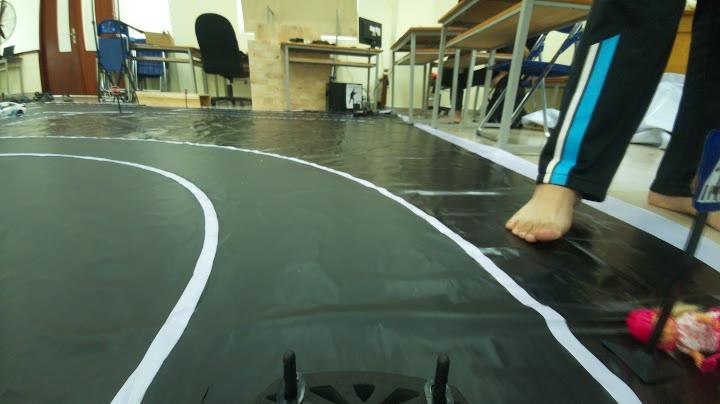crosswalk: (695, 130, 720, 216)
